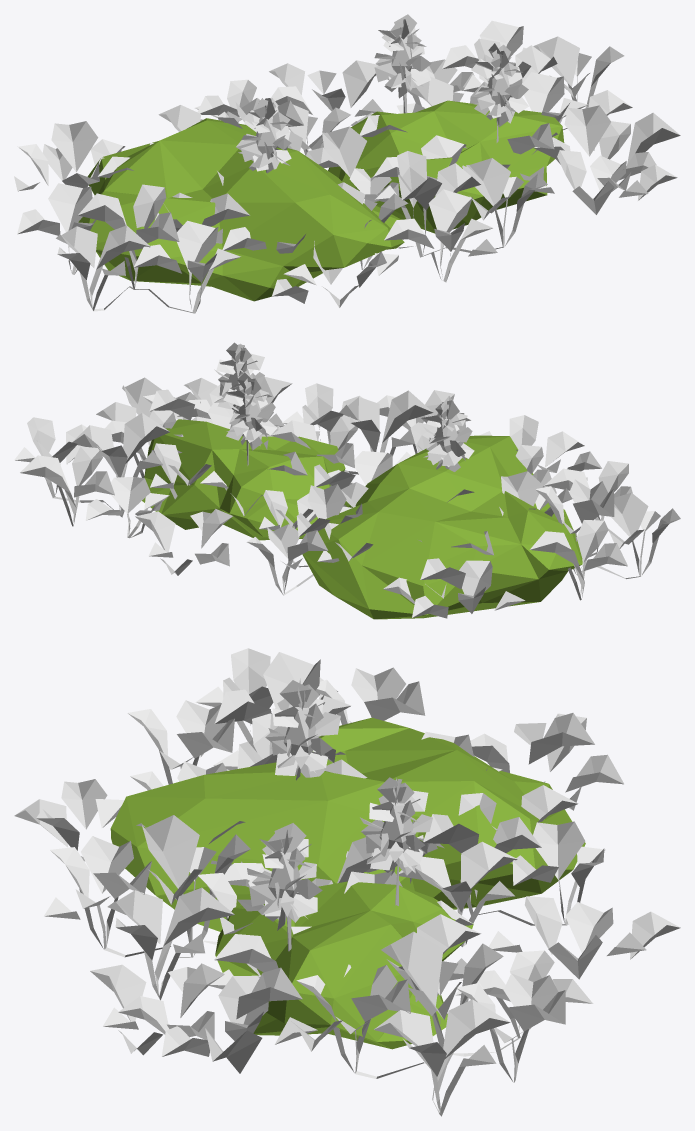
Rendered from SM_Water_Hyacinth_Group_B_Moss.fbx.
The picture shows the model from 3 angles, top to bottom: view 1: azimuth 30°, elevation 25°; view 2: azimuth 150°, elevation 25°; view 3: azimuth 270°, elevation 25°; orthographic projection. The views are drawn at different scales.
Visible parts, largest first — view 1: water-hyacinth-group-b-moss; view 2: water-hyacinth-group-b-moss; view 3: water-hyacinth-group-b-moss.
Part boxes in pixels (box(x1,y1,x2,y2)): water-hyacinth-group-b-moss: box(14, 14, 680, 313); water-hyacinth-group-b-moss: box(14, 342, 680, 619); water-hyacinth-group-b-moss: box(14, 648, 680, 1116).
Size of the model in its own units: 2.32 by 0.655 by 1.63.
